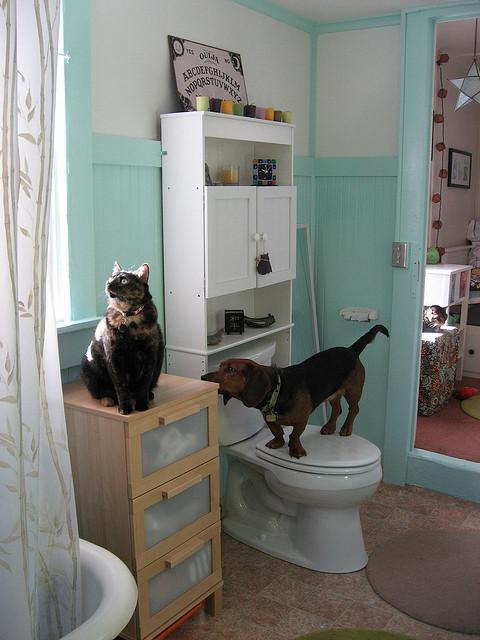Otro Obstaculo: (199, 327, 394, 459), (85, 246, 159, 410)
Sanitario: (226, 344, 383, 569)
